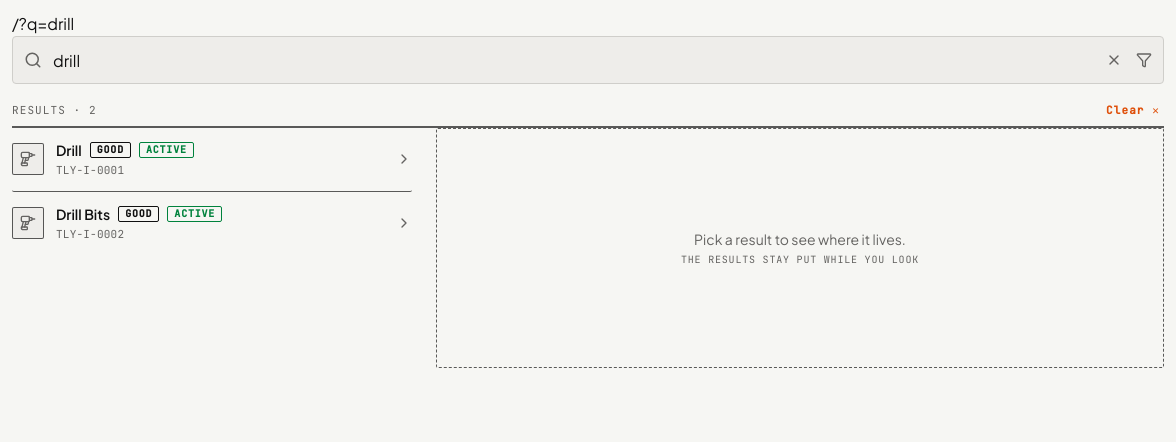
Test: (b) clicking a result at a desk selects it into the pane — the cursor is ?sel, and the page does not navigate
Click the text "Drill Bits".
click(83, 214)  # box left=56, top=204, right=110, bottom=224
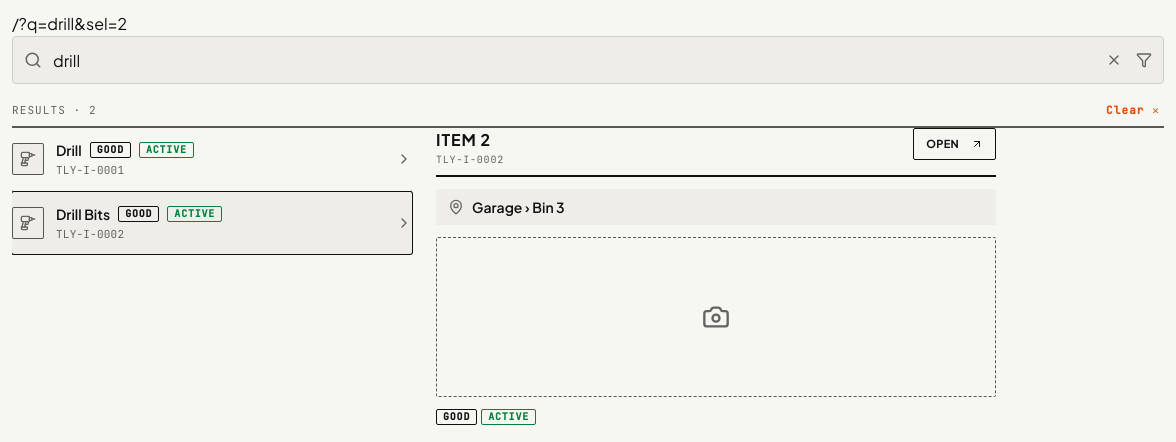
Expected: the text with test id "url" shows "sel=2", left=12, top=13, right=127, bottom=34
Expected: the text "Garage › Bin 3" is shown, left=472, top=197, right=565, bottom=217
